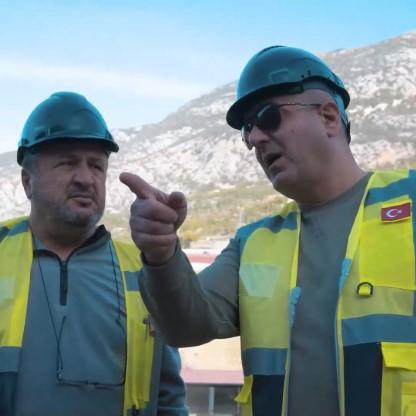helmet: (213, 53, 380, 202), (21, 97, 117, 229)
